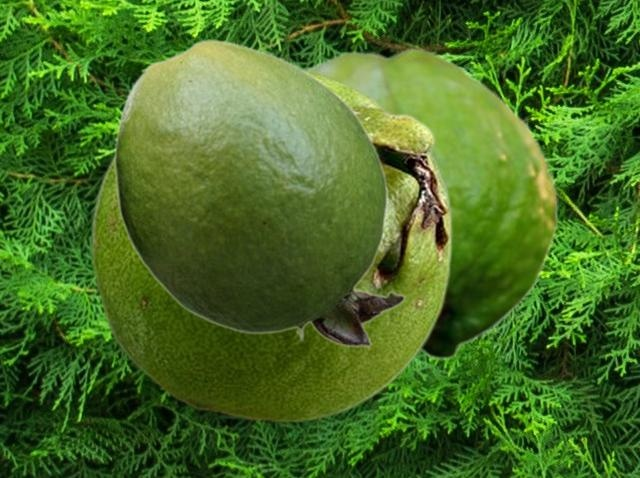guava: (90, 67, 452, 423), (113, 38, 405, 346), (301, 47, 557, 360)
